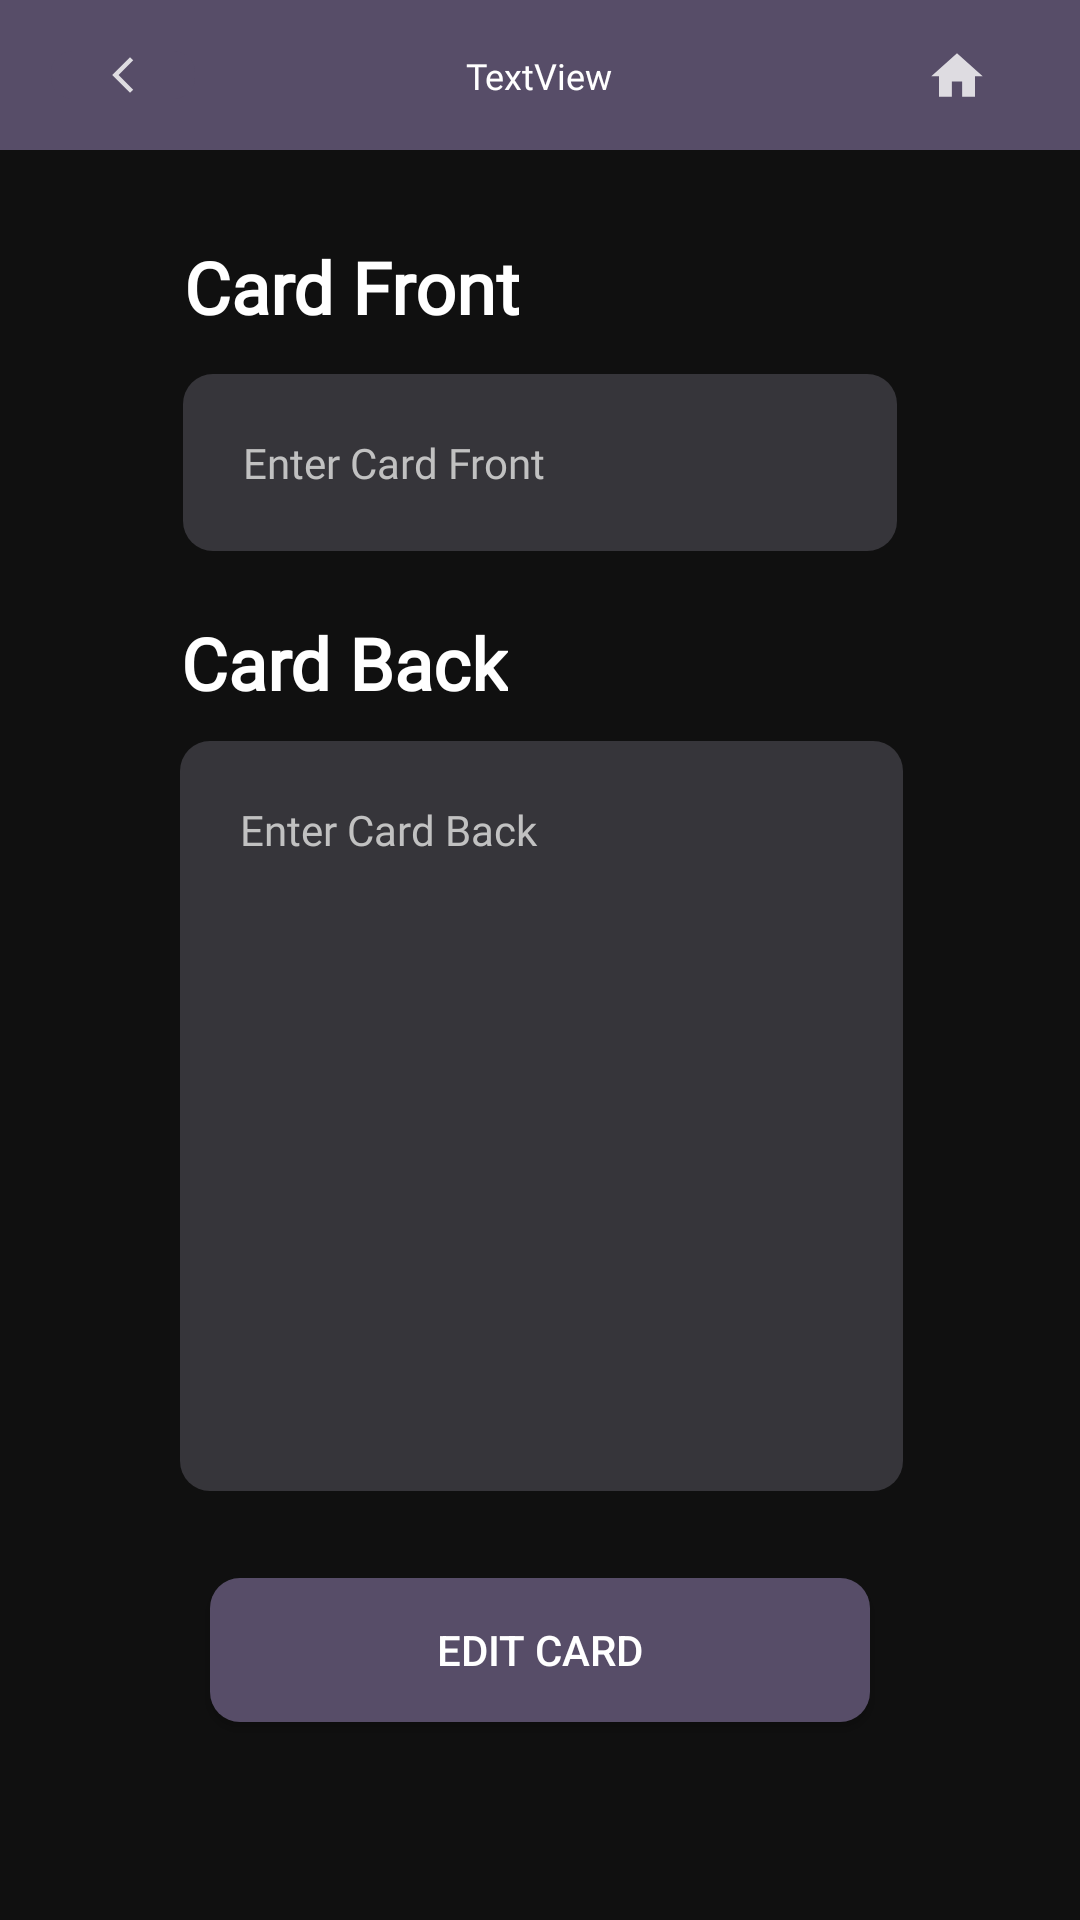

Screen size 1080px x 1920px. Icon name, then its center in pixels as [x,y]:
back arrow: [122,75]
home: [957,75]
